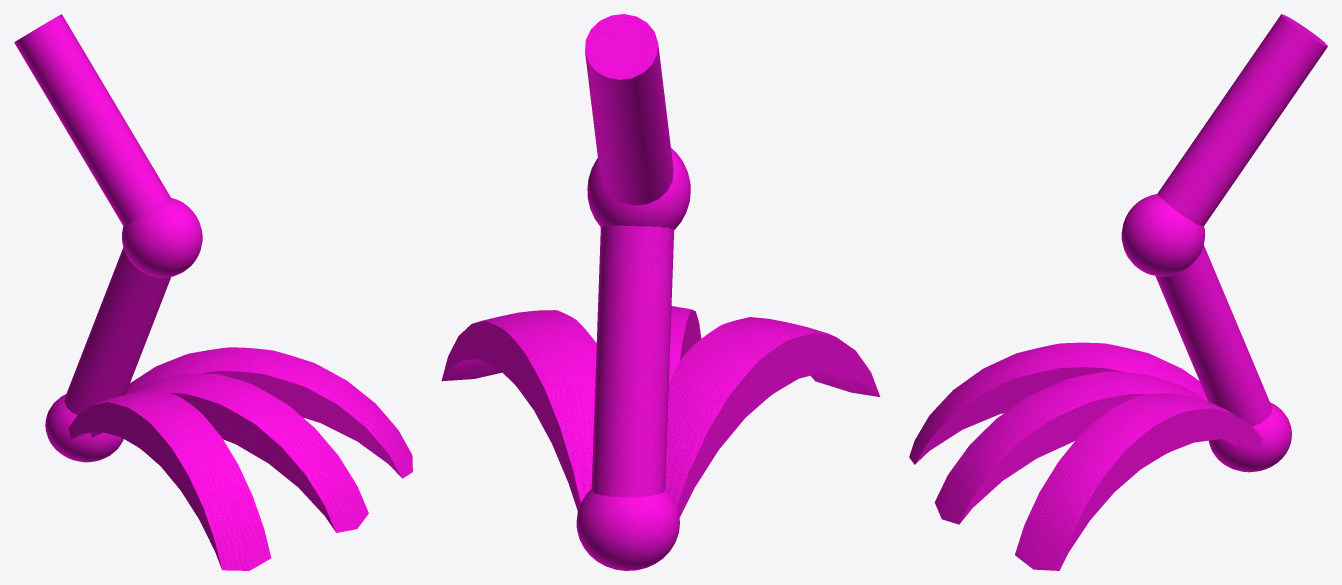
File: ave02-pata2-LT.obj
The picture shows the model from 3 angles, left to right: view 1: azimuth 30°, elevation 25°; view 2: azimuth 150°, elevation 25°; view 3: azimuth 270°, elevation 25°; orthographic projection. The views are drawn at different scales.
Parts seen in each view (by area): view 1: Cylinder002; view 2: Cylinder002; view 3: Cylinder002.
Boxes of the visible parts, <box> form: Cylinder002: <box>14,14,412,570</box>; Cylinder002: <box>441,14,880,570</box>; Cylinder002: <box>909,14,1327,570</box>.
Bounding box in the file's own units: 24.48 × 36.31 × 31.09.
